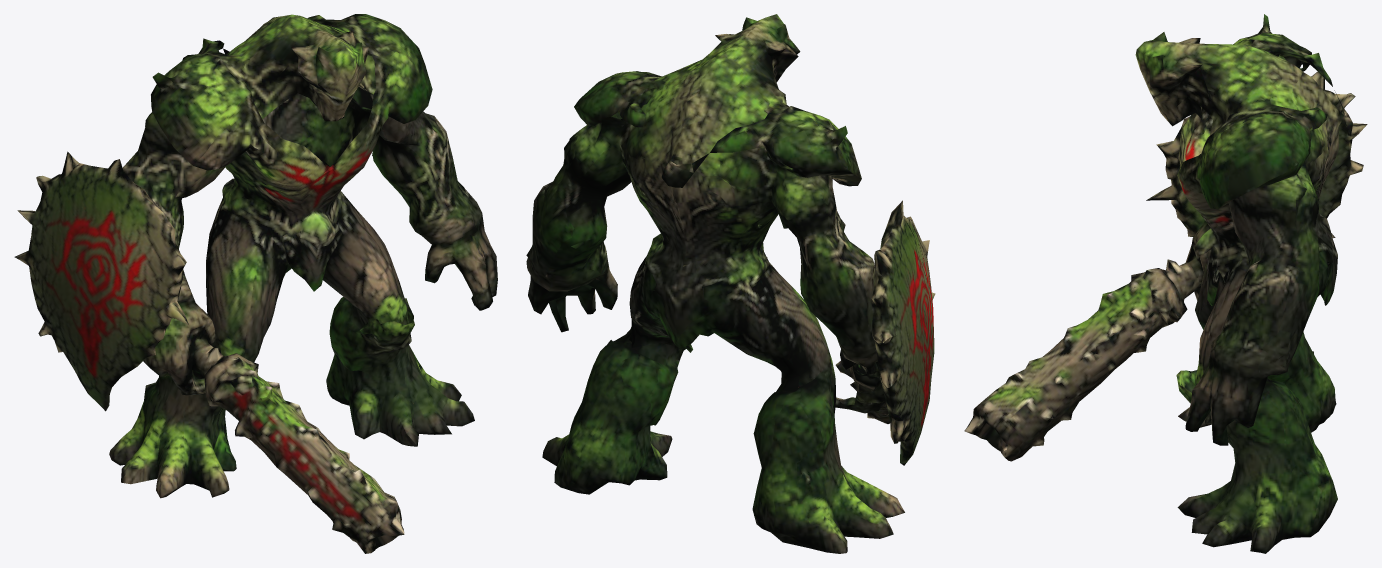
The model's file is briarwardens_ready.glb.
The picture shows the model from 3 angles, left to right: view 1: azimuth 30°, elevation 25°; view 2: azimuth 150°, elevation 25°; view 3: azimuth 270°, elevation 25°; orthographic projection. The views are drawn at different scales.
Visible parts, largest first — view 1: world; view 2: world; view 3: world.
Boxes of the visible parts, box(x1,y1,x2,y2) form: world: box(14, 14, 497, 553); world: box(526, 14, 935, 553); world: box(964, 14, 1367, 553).
Size of the model in its own units: 0.8921 by 0.9046 by 0.7585.
Materials: 1 (1 with a texture image).
